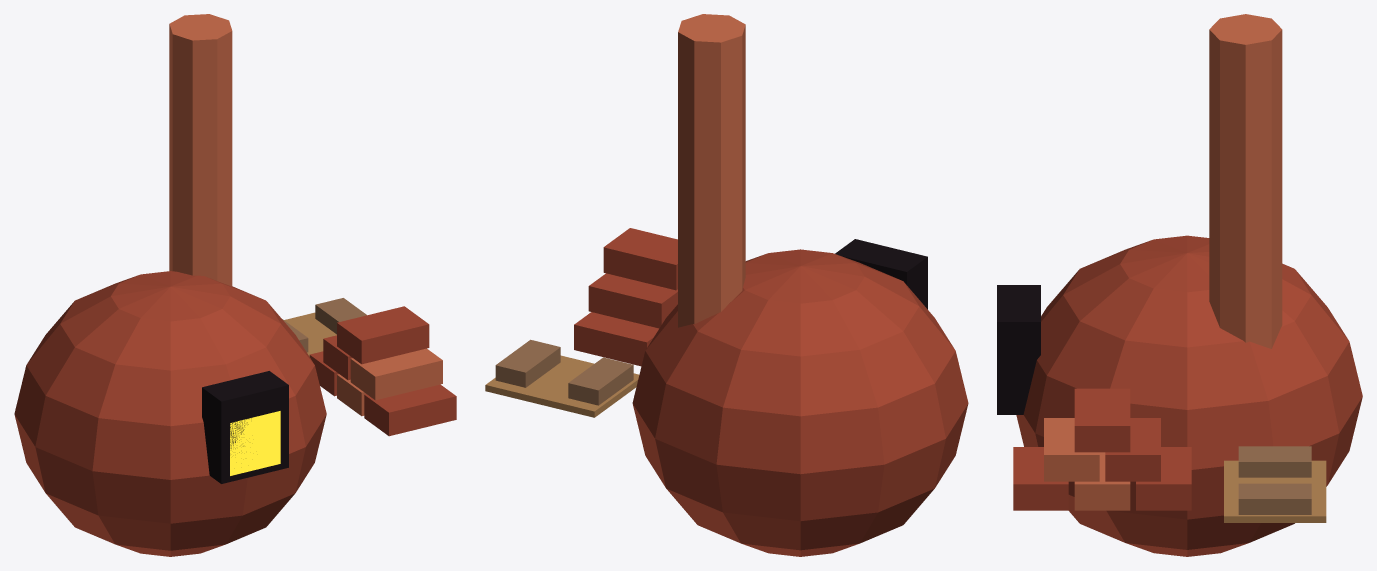
The model's file is cegielnia.glb.
The picture shows the model from 3 angles, left to right: view 1: azimuth 30°, elevation 25°; view 2: azimuth 150°, elevation 25°; view 3: azimuth 270°, elevation 25°; orthographic projection. The views are drawn at different scales.
Parts seen in each view (by area): view 1: cegielnia; view 2: cegielnia; view 3: cegielnia.
Part boxes in pixels (x1,y1,x2,y2): cegielnia: [14, 14, 456, 556]; cegielnia: [485, 14, 968, 556]; cegielnia: [997, 14, 1362, 556].
Bounding box in the file's own units: 3.25 × 4.08 × 2.5.
